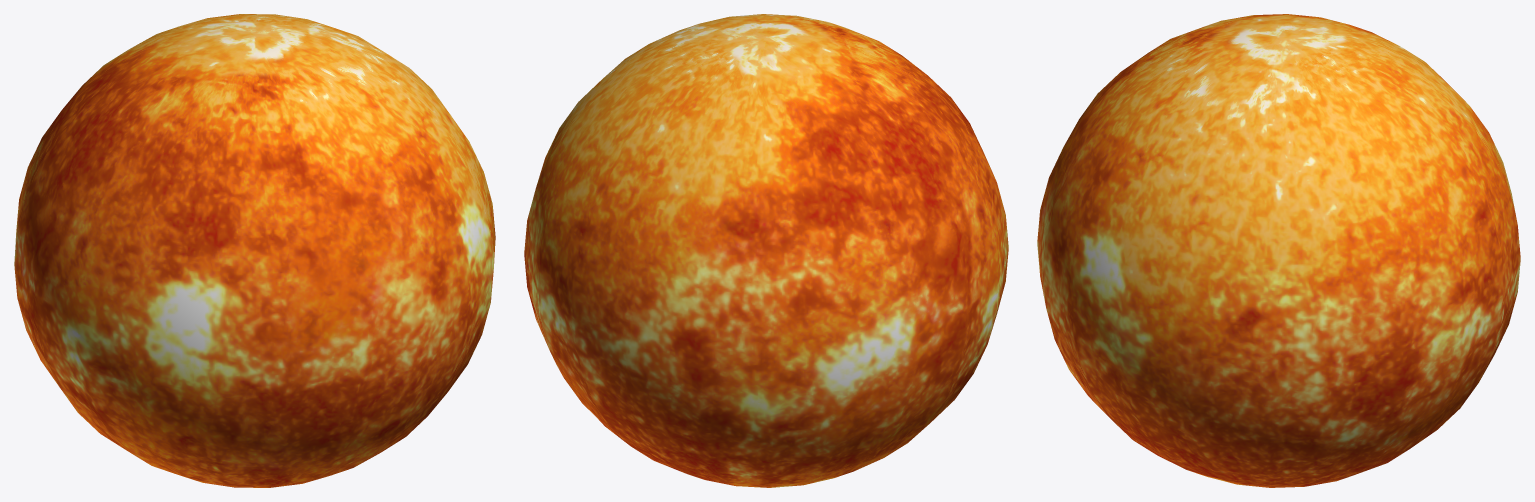
The model's file is Sun.fbx.
3 views of the same model, side by side, from view 1: azimuth 30°, elevation 25°; view 2: azimuth 150°, elevation 25°; view 3: azimuth 270°, elevation 25° (orthographic).
Visible parts, largest first — view 1: Sun; view 2: Sun; view 3: Sun.
Part boxes in pixels (x1,y1,x2,y2): Sun: (14,14,495,487); Sun: (524,14,1008,487); Sun: (1037,14,1520,487).
Bounding box in the file's own units: 2724 × 2658 × 2724.
Materials: 1 (1 with a texture image).
